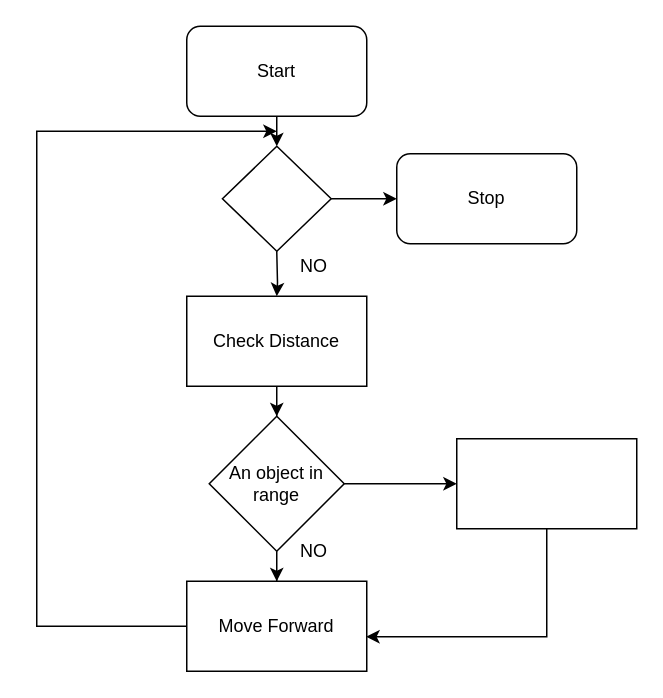
Some shapes in this 663 by 698 pixel diagram are drawn without their labels. The box of each missing label's shape, as (x1, y1, x2, y2) in pixels:
Move Left/Right: (455, 437, 637, 529)
Turn Off?: (221, 145, 331, 251)
